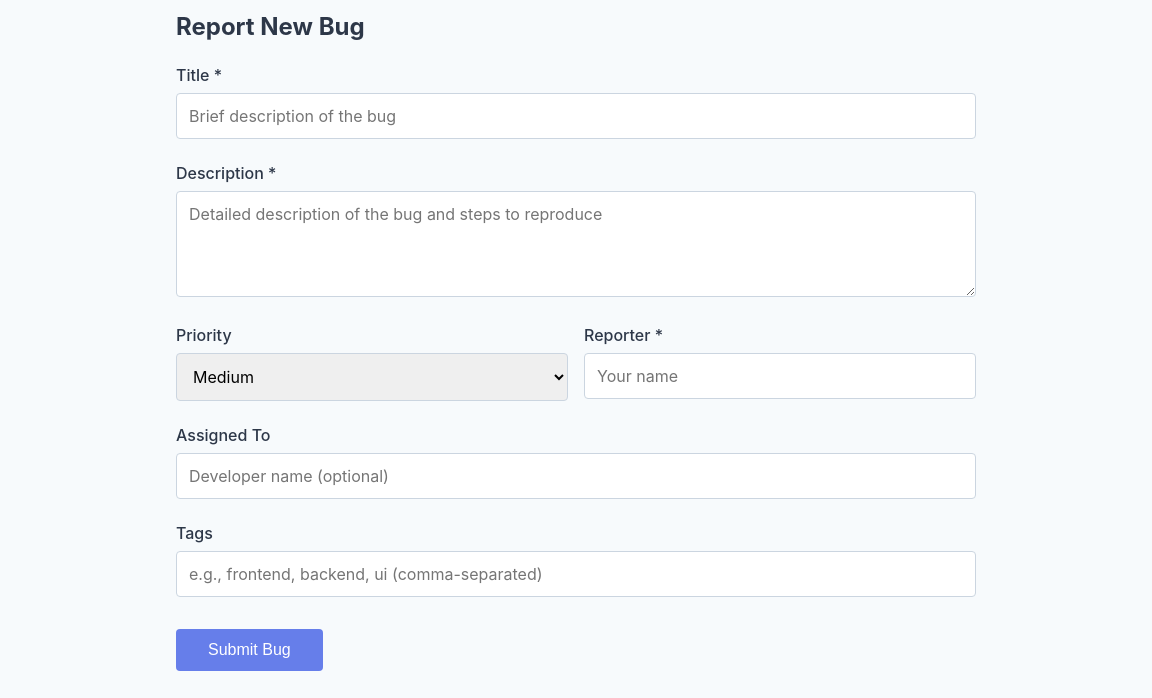
BugForm Component › handles submission errors gracefully
The image size is (1152, 698).
In the field labelled "Title *": (576, 116) [176, 93, 976, 139], type "Test Bug"
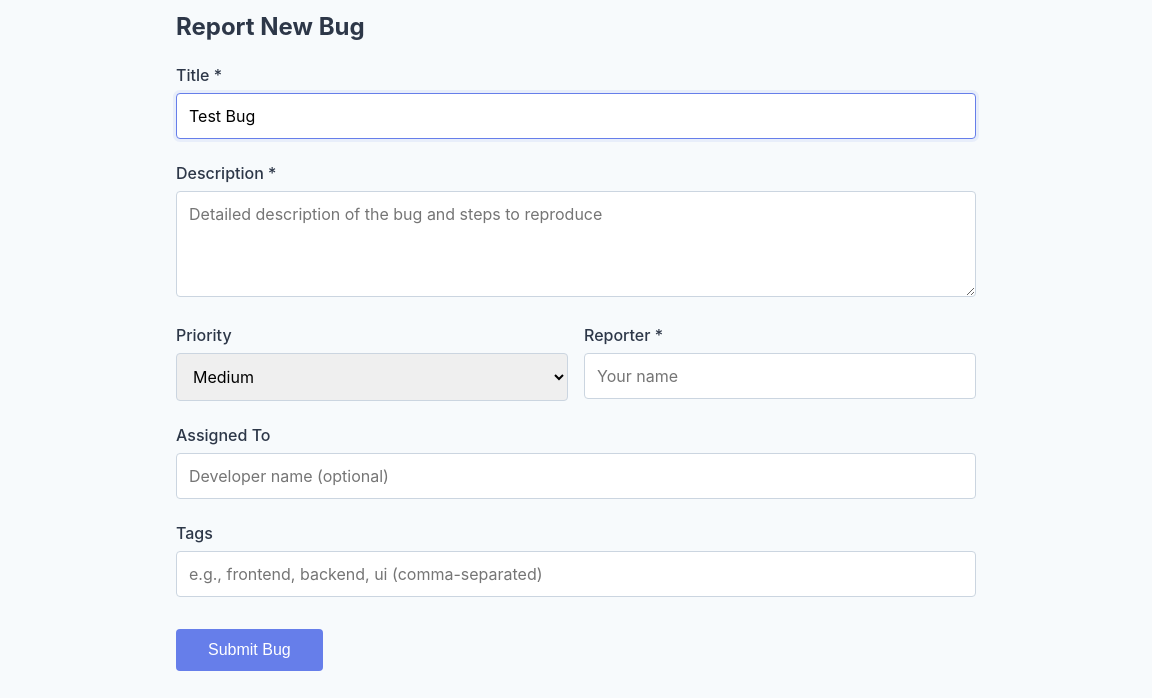
In the text box labelled "Description *": (576, 244) [176, 191, 976, 297], type "Test Description"
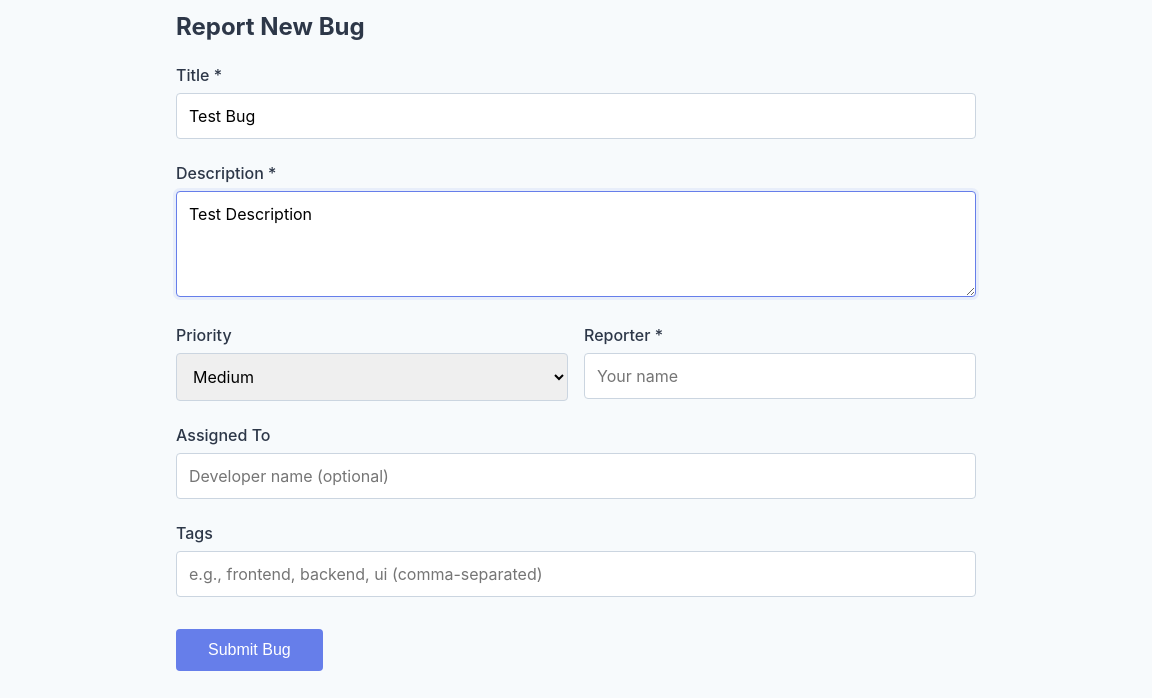
In the field labelled "Reporter *": (780, 376) [584, 353, 976, 399], type "John Doe"
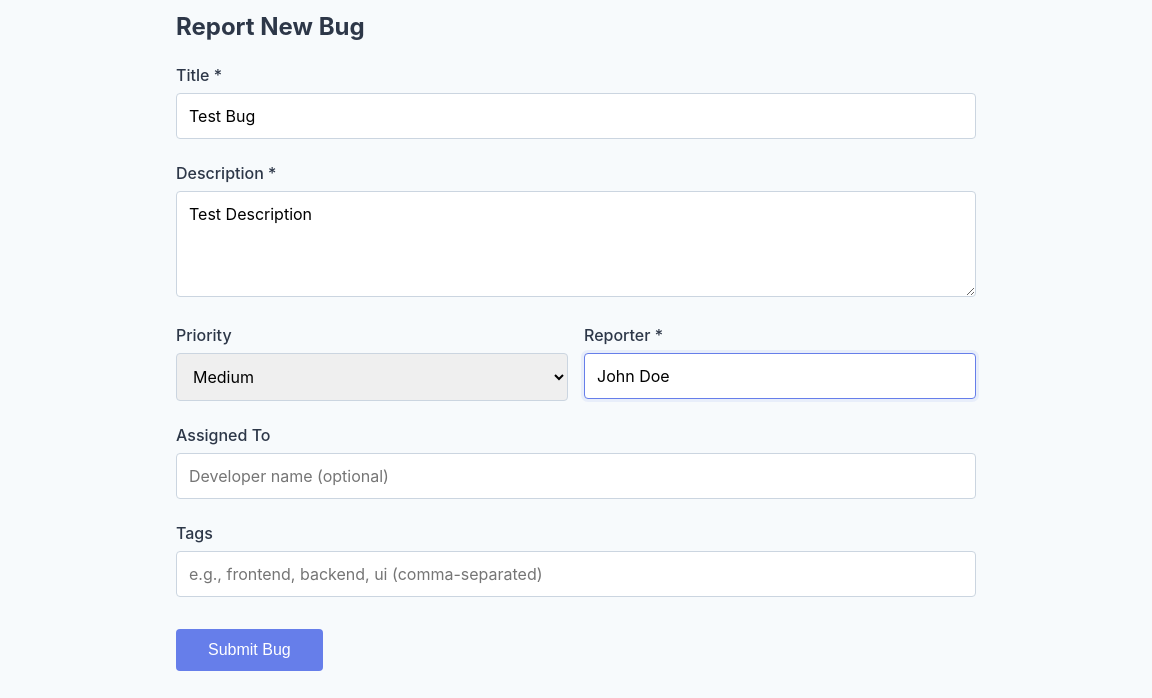
Click the button "Submit Bug": click(249, 650) [176, 629, 323, 671]
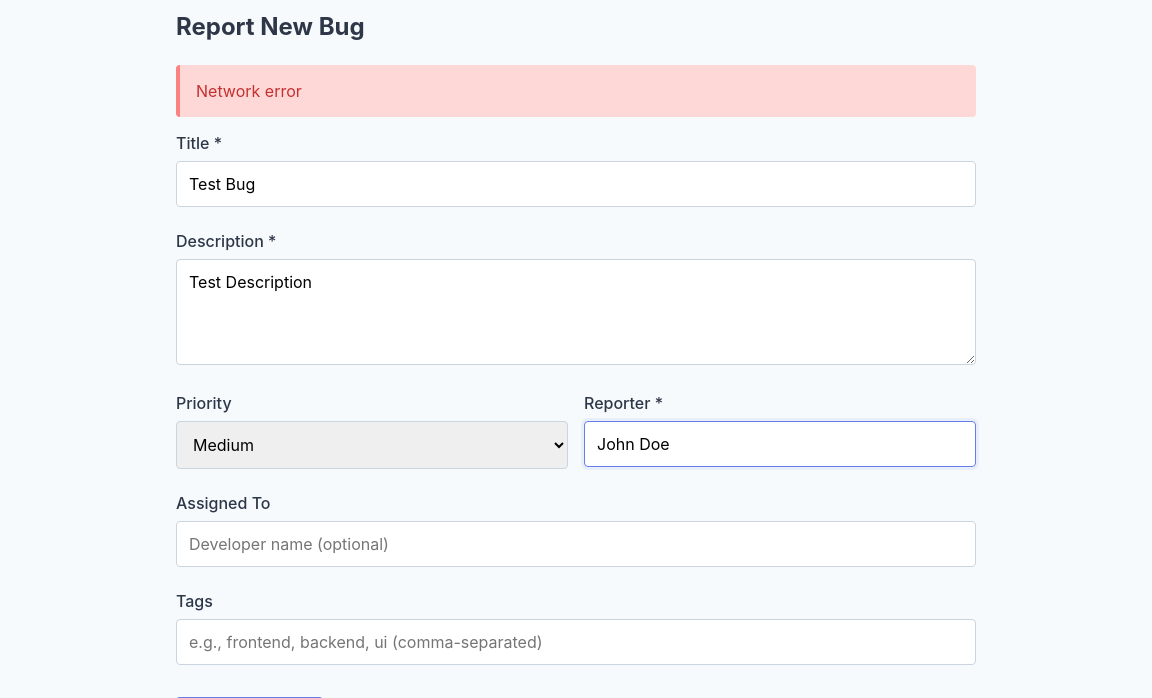
Expected: the text "Network error" is shown, [176, 65, 976, 117]
